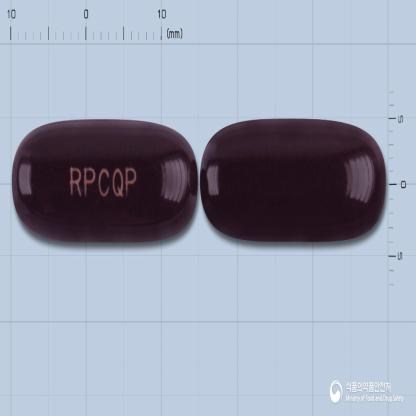pill: (11, 117, 198, 242), (200, 119, 386, 242)
